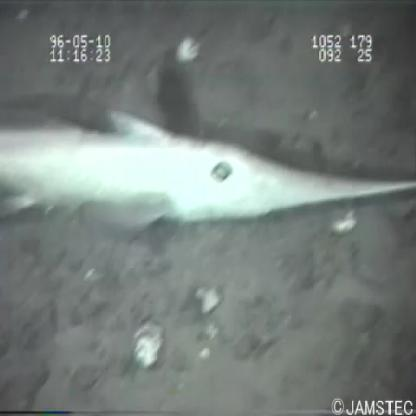Bio: (1, 88, 416, 233)
